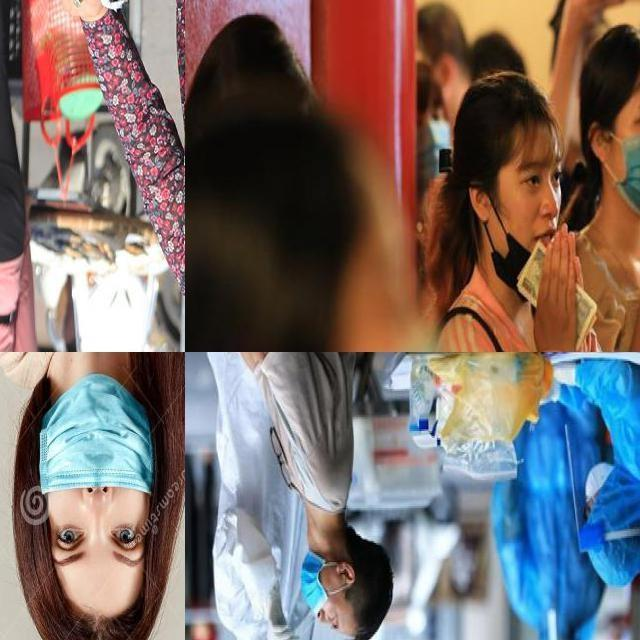hairnet: (34, 373, 157, 516), (481, 196, 562, 299), (299, 546, 342, 627)
